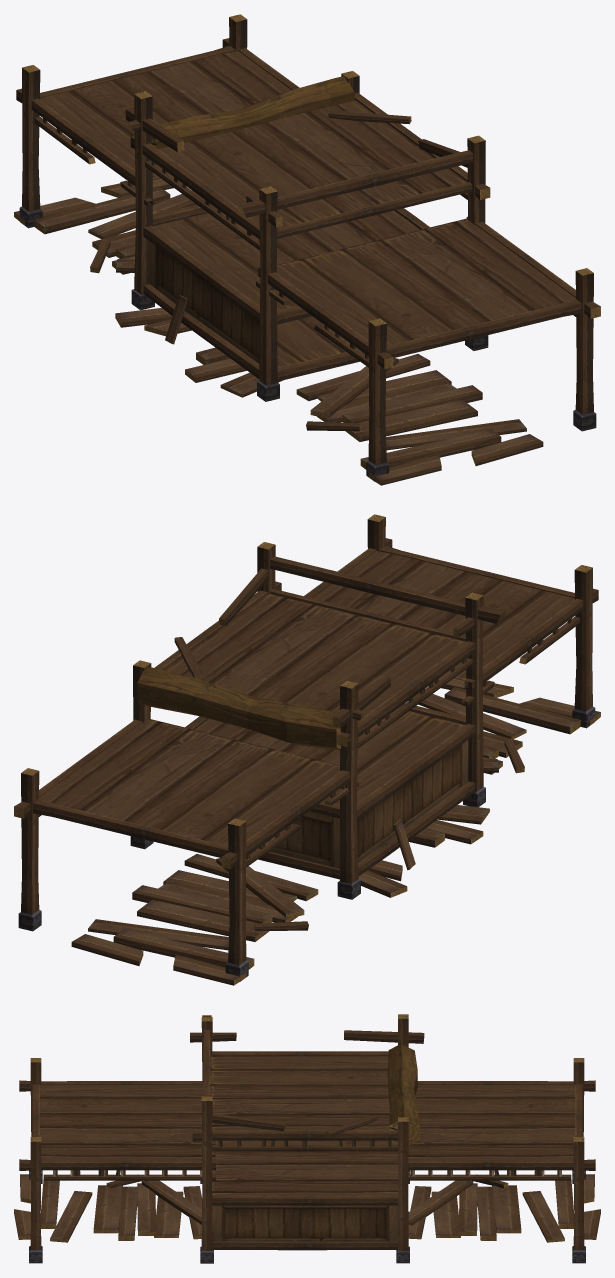
File: Item_3001_dimianwujian_jiazi.FBX
3 renders of one model, top to bottom at view 1: azimuth 30°, elevation 25°; view 2: azimuth 150°, elevation 25°; view 3: azimuth 270°, elevation 25°, orthographic. The views are drawn at different scales.
Parts seen in each view (by area): view 1: Item_3001_dimianwujian_jiazi; view 2: Item_3001_dimianwujian_jiazi; view 3: Item_3001_dimianwujian_jiazi.
Boxes of the visible parts, x1,y1,x2,y2 form: Item_3001_dimianwujian_jiazi: (14, 14, 600, 485); Item_3001_dimianwujian_jiazi: (14, 514, 600, 985); Item_3001_dimianwujian_jiazi: (14, 1014, 600, 1263).
Size of the model in its own units: 427 by 329 by 1056.
